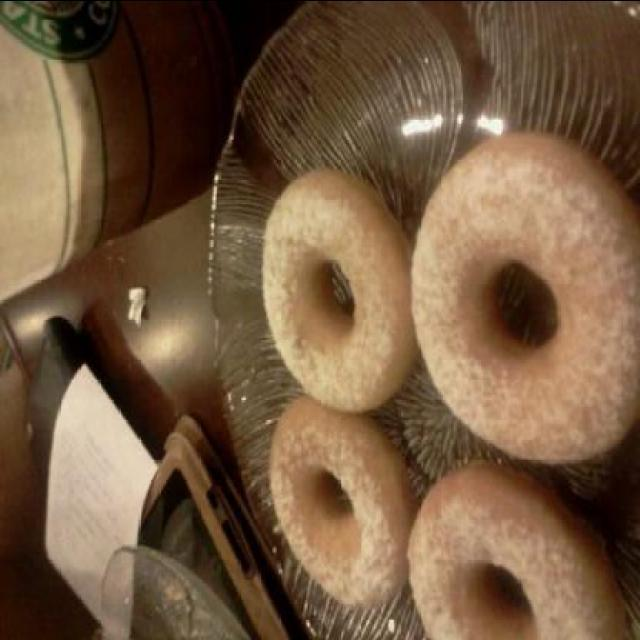Donuts: (267, 126, 631, 630)
